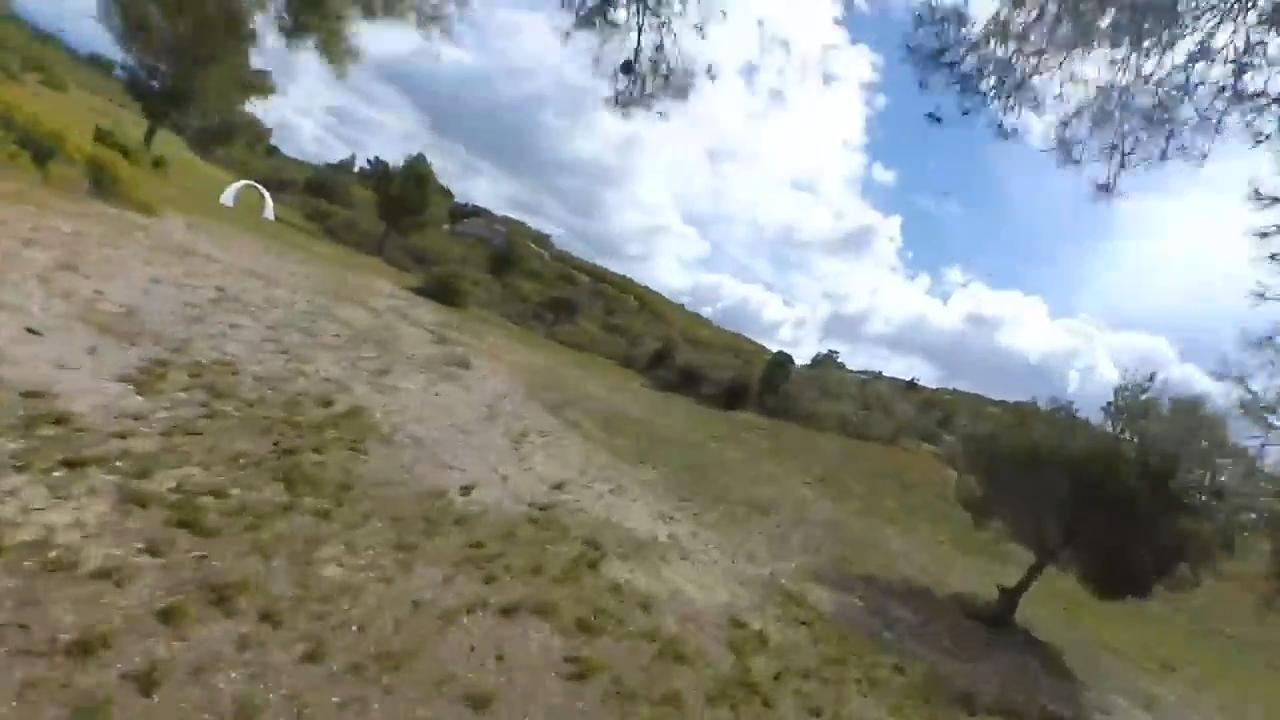gate: (218, 178, 275, 222)
